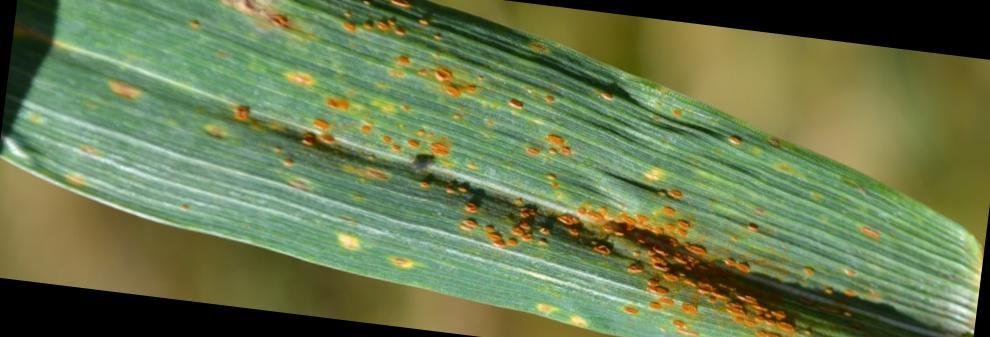Wheat: (93, 3, 437, 192), (596, 149, 801, 335), (446, 61, 589, 292), (820, 199, 894, 327)
